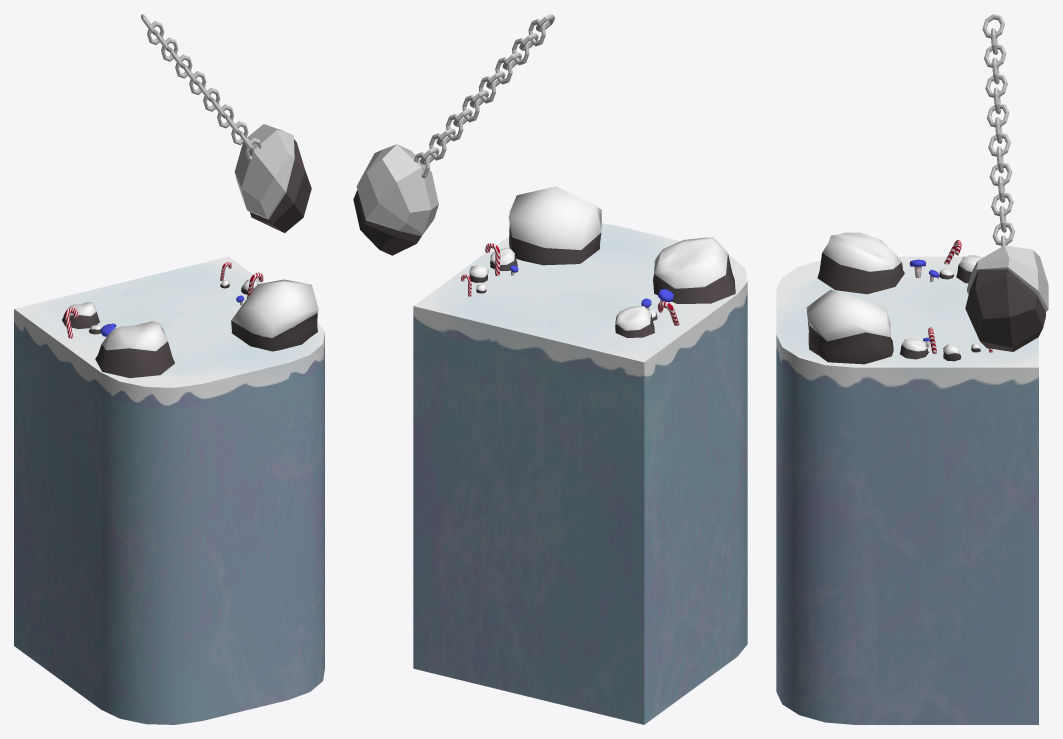
Rendered from FinalNieve.fbx.
3 renders of one model, left to right at view 1: azimuth 30°, elevation 25°; view 2: azimuth 150°, elevation 25°; view 3: azimuth 270°, elevation 25°, orthographic. The views are drawn at different scales.
Visible parts, largest first — view 1: FinalNieve, BolaDemoledoraMalo, Cube.057, Cube.045, Cube.061; view 2: FinalNieve, BolaDemoledoraMalo, Cube.057, Cube.045, Cube.061; view 3: FinalNieve, BolaDemoledoraMalo, Cube.057, Cube.045, Cube.062.
Boxes of the visible parts, x1,y1,x2,y2 form: FinalNieve: (14, 256, 324, 724); BolaDemoledoraMalo: (141, 14, 311, 232); Cube.057: (231, 279, 318, 351); Cube.045: (95, 321, 174, 377); Cube.061: (62, 302, 99, 328); FinalNieve: (413, 223, 747, 724); BolaDemoledoraMalo: (353, 14, 554, 255); Cube.057: (508, 186, 601, 265); Cube.045: (653, 237, 735, 303); Cube.061: (615, 306, 654, 337); FinalNieve: (776, 256, 1038, 724); BolaDemoledoraMalo: (965, 14, 1048, 351); Cube.057: (806, 289, 893, 364); Cube.045: (817, 232, 904, 294); Cube.062: (900, 338, 928, 359).
Bounding box in the file's own units: 1293 × 2753 × 1036.
